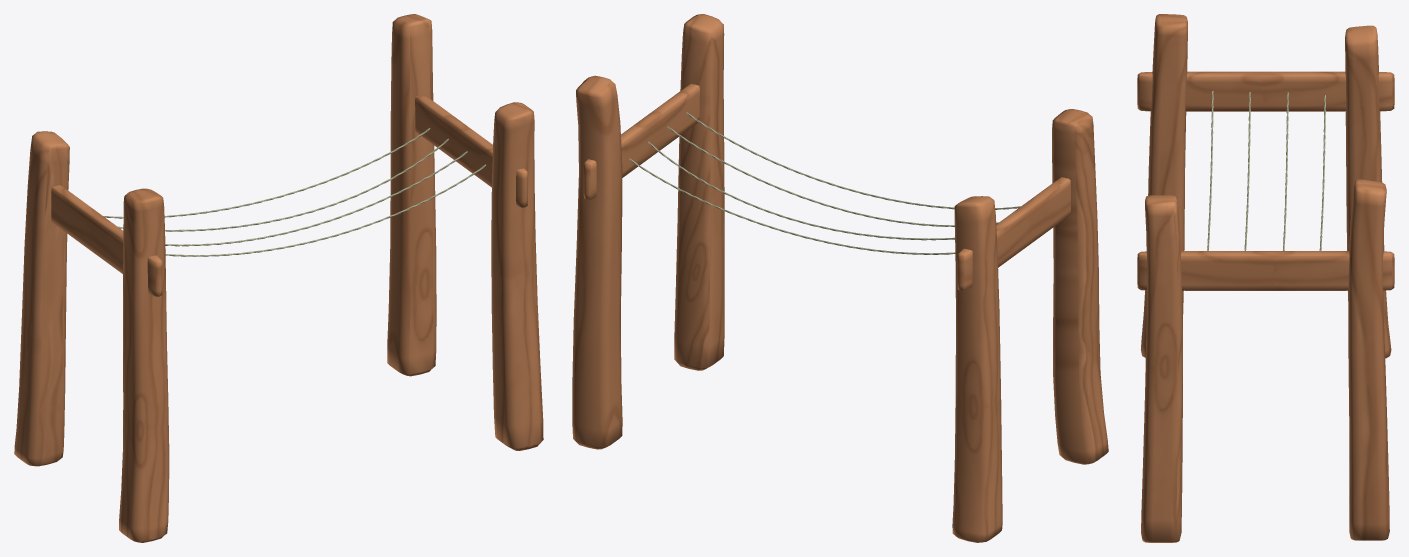
The model's file is RopeDry.fbx.
3 renders of one model, left to right at view 1: azimuth 30°, elevation 25°; view 2: azimuth 150°, elevation 25°; view 3: azimuth 270°, elevation 25°, orthographic. The views are drawn at different scales.
Parts seen in each view (by area): view 1: Cube.053, Cube.045; view 2: Cube.053, Cube.045; view 3: Cube.053, Cube.045.
Boxes of the visible parts, x1,y1,x2,y2 form: Cube.053: [14, 14, 543, 542]; Cube.045: [103, 128, 485, 256]; Cube.053: [572, 14, 1108, 542]; Cube.045: [629, 112, 1020, 254]; Cube.053: [1137, 14, 1394, 542]; Cube.045: [1207, 91, 1325, 250].
Bounding box in the file's own units: 1614 × 1315 × 869.
2 materials, 1 textured.
